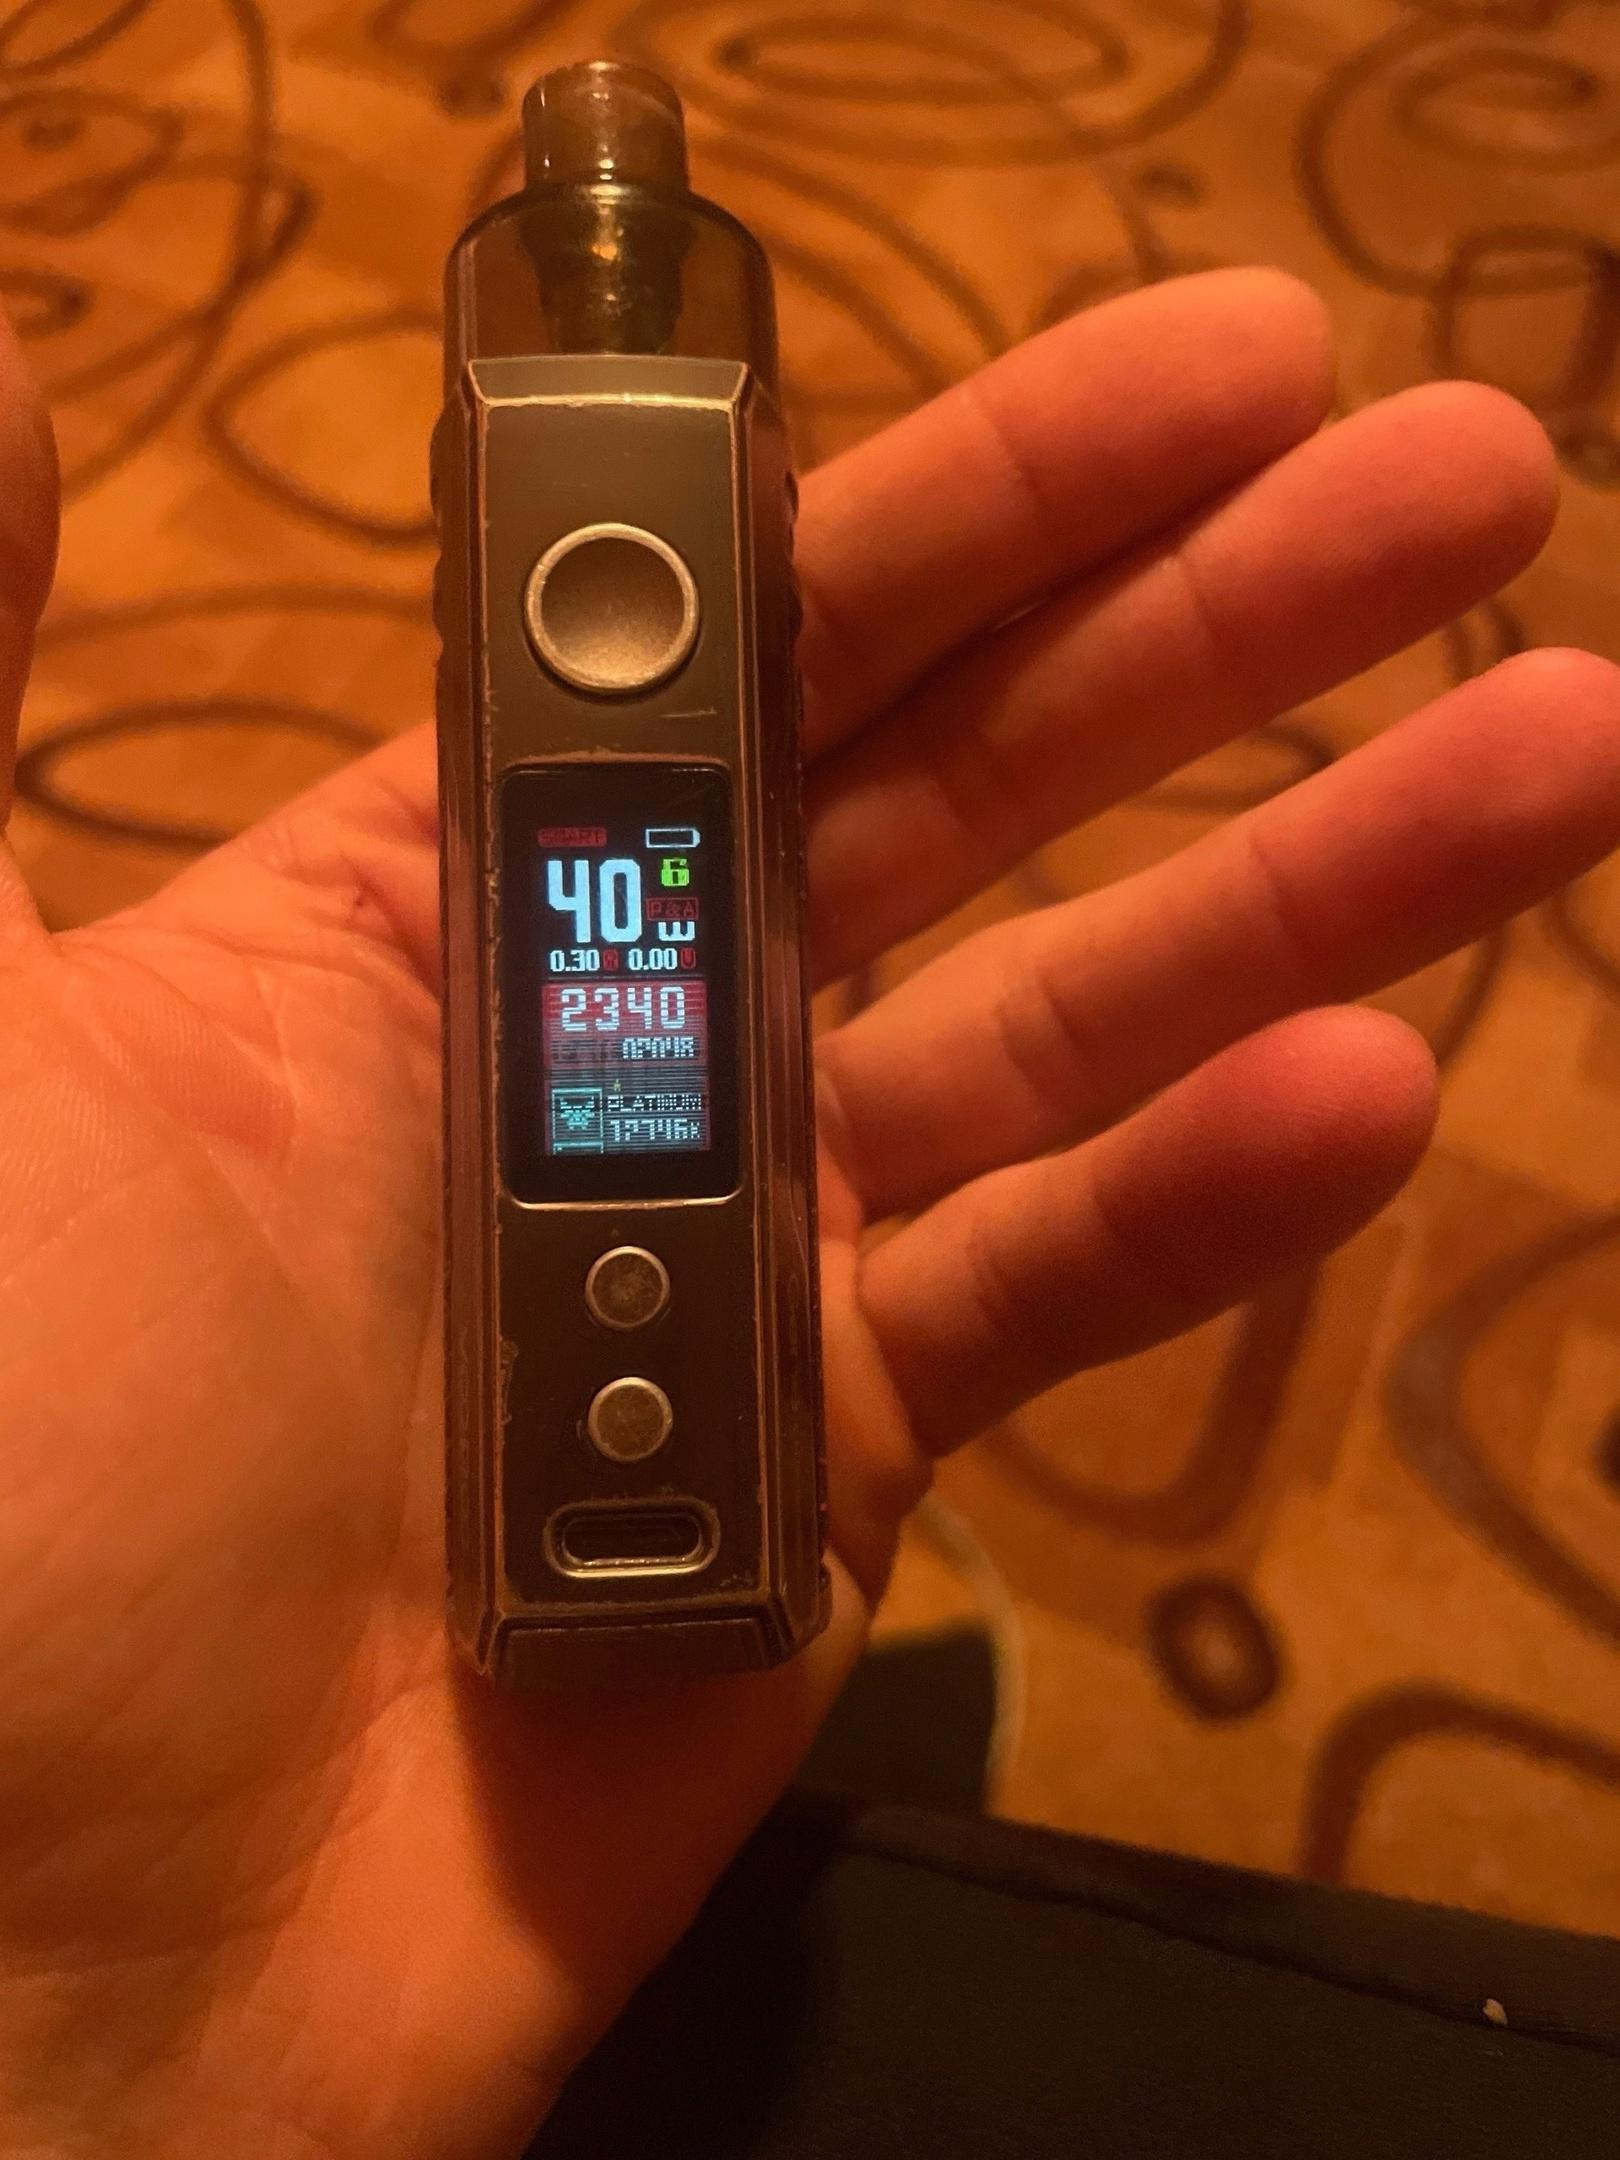Vape: (432, 61, 822, 1680)
